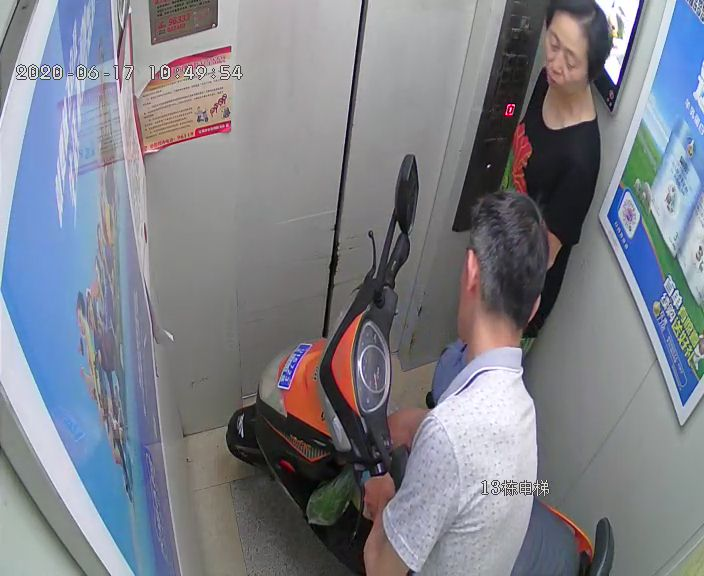Electric-bicycle: (234, 156, 610, 576)
